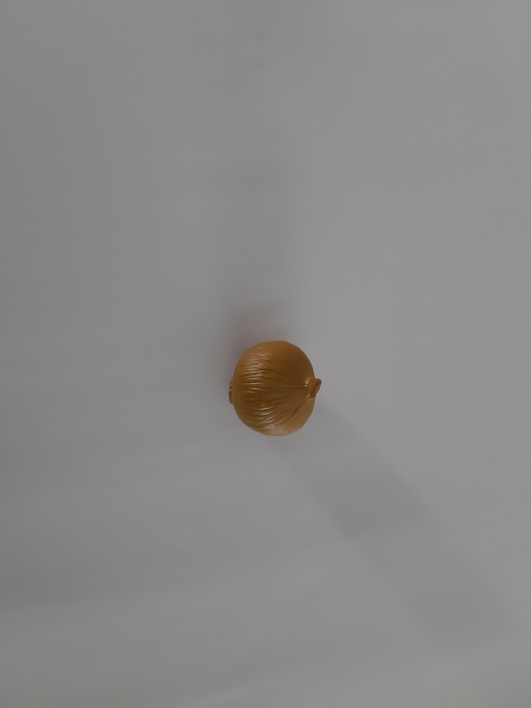onion: (216, 327, 341, 454)
